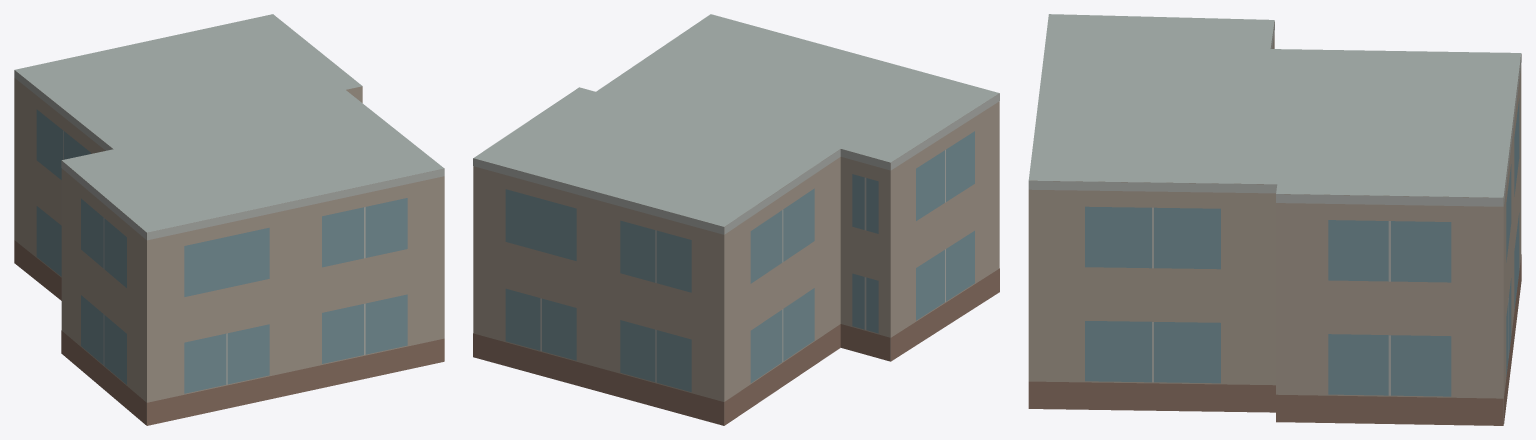
File: survey-upis-32551578.glb
The picture shows the model from 3 angles, left to right: view 1: azimuth 30°, elevation 25°; view 2: azimuth 150°, elevation 25°; view 3: azimuth 270°, elevation 25°; orthographic projection. The views are drawn at different scales.
Parts seen in each view (by area): view 1: survey-upis-32551578.tmp; view 2: survey-upis-32551578.tmp; view 3: survey-upis-32551578.tmp.
Part boxes in pixels (left/top/right/bottom): survey-upis-32551578.tmp: left=14, top=14, right=444, bottom=425; survey-upis-32551578.tmp: left=473, top=14, right=999, bottom=425; survey-upis-32551578.tmp: left=1028, top=14, right=1521, bottom=425.
Size of the model in its own units: 10.54 by 6.1 by 11.95.
